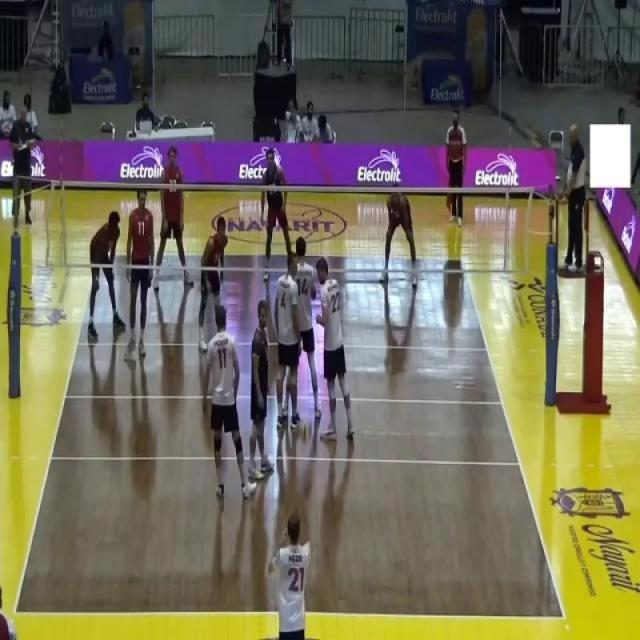volleyball: (298, 418, 313, 443)
